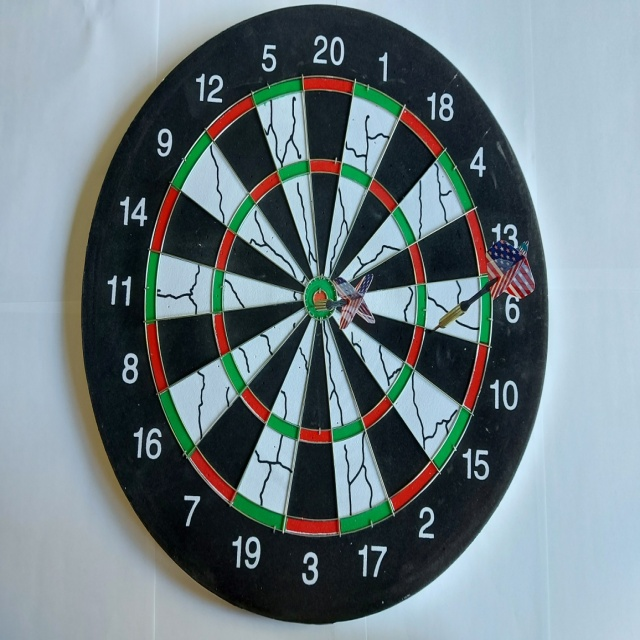Dart: (424, 235, 543, 338), (305, 271, 380, 332)
